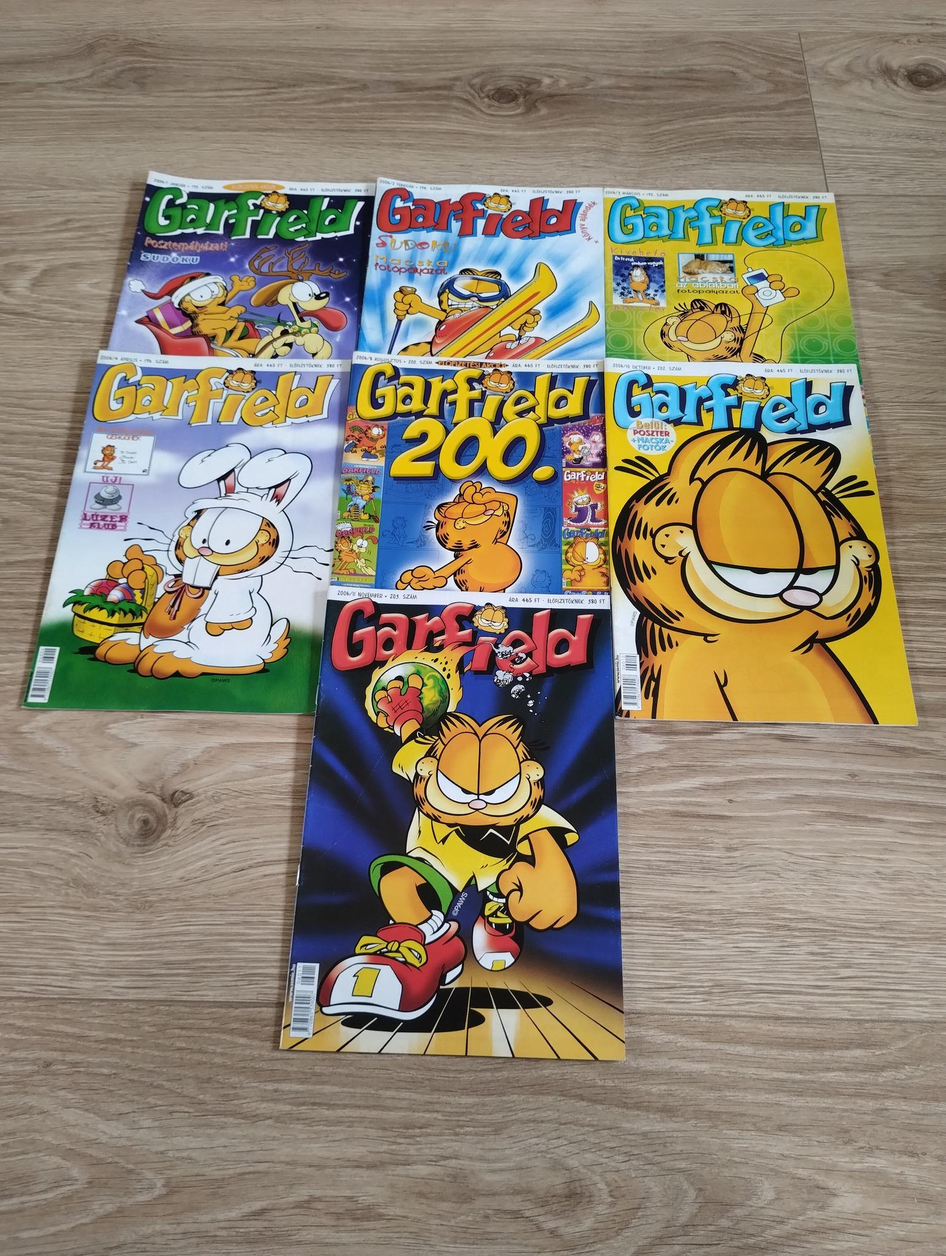comic: (281, 585, 636, 1059), (26, 337, 349, 727), (604, 347, 916, 735), (333, 350, 618, 598), (108, 165, 373, 371), (358, 179, 610, 365), (605, 186, 857, 366)
